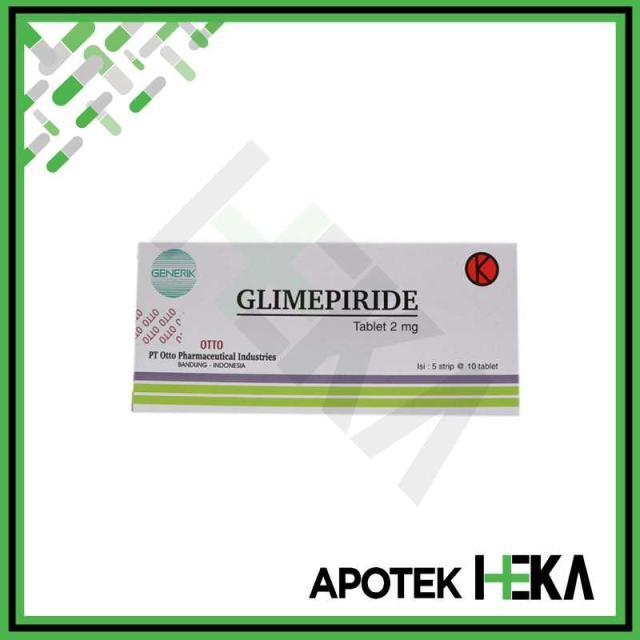drug-name: (232, 280, 422, 317)
